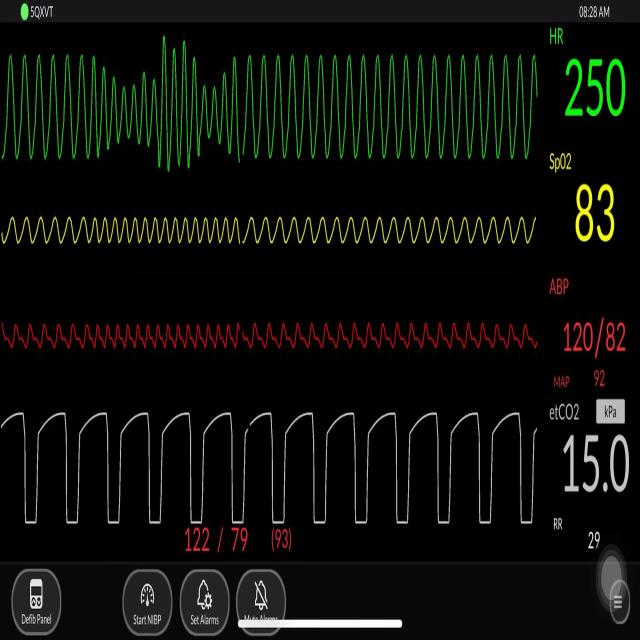danger: (8, 32, 547, 188)
